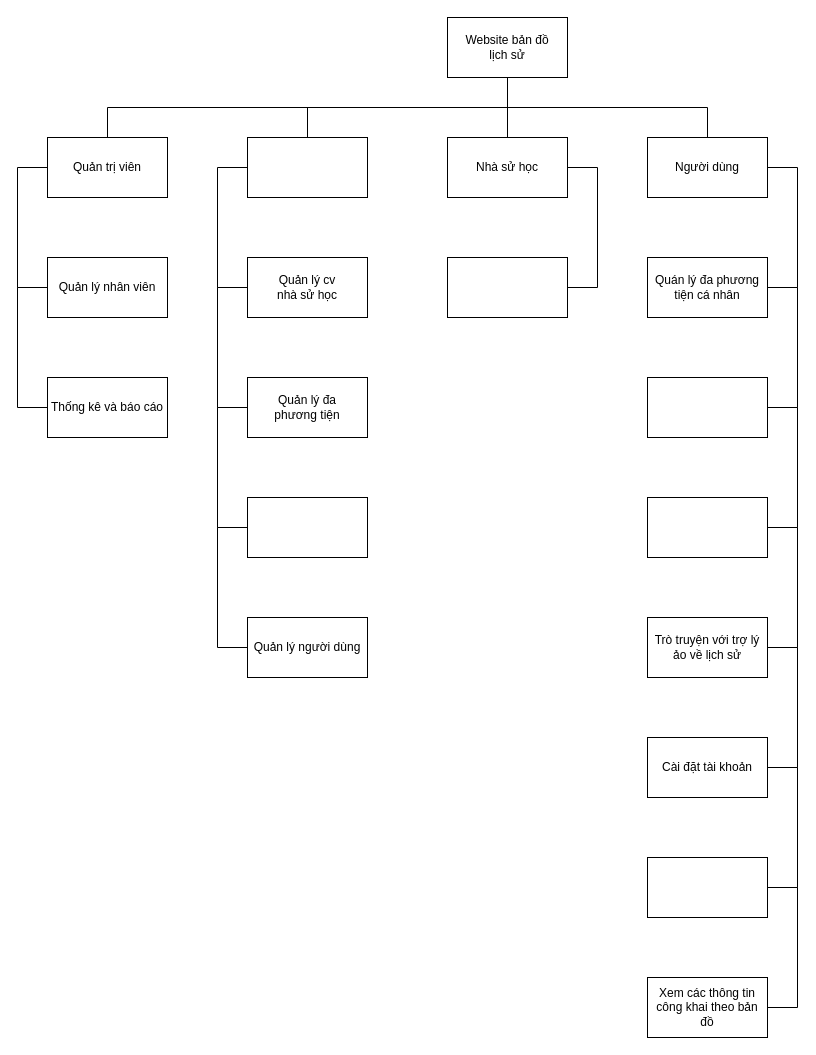
The diagram is 816 pixels wide and 1055 high, and some of its shapes have lost their labels. The centre of each missing label's shape, as x and y in pixels:
Kiểm duyệt viên: the point at 307,167
Quán lý cv nhà sử học cá nhân: the point at 707,407
Quản lý tất cả dự án: the point at 307,527
Quản lý đệ trình dự án: the point at 507,287
Quản lý đệ trình dự án cá nhân: the point at 707,527
Tìm kiếm kho dữ liệu công khai: the point at 707,887
